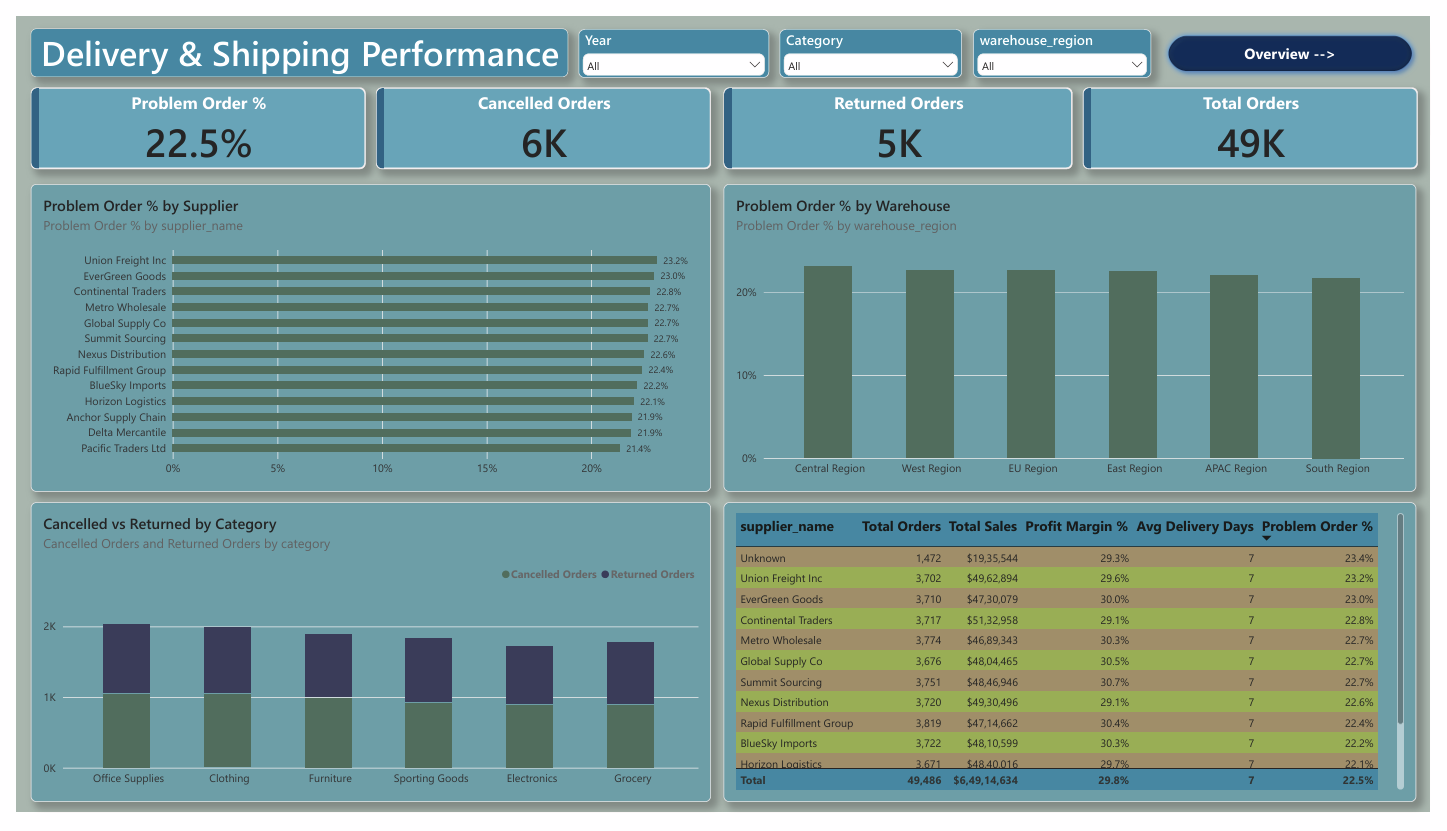

What the dashboard file says about the page in this screenshot:
{"tool":"powerbi","page":{"name":"Suppliers","canvas":[1920,1080],"ordinal":3},"visuals":[{"type":"textbox","title":"Delivery & Shipping Performance","box":[18.5,16.5,730.7,65.9],"z":0},{"type":"slicer","fields":{"Values":["DateTable.Year"]},"box":[763,16.5,258.6,66],"z":1000},{"type":"slicer","fields":{"Values":["supply_chain_analysis_dashboard.category"]},"box":[1036.4,16.5,247.6,66],"z":2000},{"type":"slicer","fields":{"Values":["supply_chain_analysis_dashboard.warehouse_region"]},"box":[1298.6,16.5,242.1,66],"z":3000},{"type":"actionButton","box":[1555.4,16.5,348.5,66],"z":4000},{"type":"cardVisual","fields":{"Data":["supply_chain_analysis_dashboard.Problem Order %"]},"box":[18.8,96,455,110.6],"z":5000},{"type":"cardVisual","fields":{"Data":["supply_chain_analysis_dashboard.Cancelled Orders"]},"box":[488.3,96,455,110.6],"z":6000},{"type":"cardVisual","fields":{"Data":["supply_chain_analysis_dashboard.Returned Orders"]},"box":[960,96,473.7,110.6],"z":7000},{"type":"cardVisual","fields":{"Data":["supply_chain_analysis_dashboard.Total Orders"]},"box":[1448.3,96,455,110.6],"z":8000},{"type":"clusteredBarChart","title":"Problem Order % by Supplier","fields":{"Category":["supply_chain_analysis_dashboard.supplier_name"],"Y":["supply_chain_analysis_dashboard.Problem Order %"]},"box":[18.8,227.5,924.5,417.4],"z":9000},{"type":"clusteredColumnChart","title":"Problem Order % by Warehouse","fields":{"Category":["supply_chain_analysis_dashboard.warehouse_region"],"Y":["supply_chain_analysis_dashboard.Problem Order %"]},"box":[960,227.5,941.2,417.4],"z":10000},{"type":"columnChart","title":"Cancelled vs Returned by Category","fields":{"Category":["supply_chain_analysis_dashboard.category"],"Y":["supply_chain_analysis_dashboard.Cancelled Orders","supply_chain_analysis_dashboard.Returned Orders"]},"box":[18.8,659.5,924.5,407],"z":11000},{"type":"tableEx","fields":{"Values":["supply_chain_analysis_dashboard.supplier_name","supply_chain_analysis_dashboard.Total Orders","supply_chain_analysis_dashboard.Total Sales","supply_chain_analysis_dashboard.Profit Margin %","supply_chain_analysis_dashboard.Avg Delivery Days","supply_chain_analysis_dashboard.Problem Order %"]},"box":[960,659.5,941.2,407],"z":12000}]}

Visuals, with their boxes in screenshot pixels (x1, y1, x2, y2), scaled from the page's 1920x1080 canvas onto the 1447x831 screenshot:
"Delivery & Shipping Performance" textbox: (14,13,565,63)
slicer - DateTable.Year: (575,13,770,63)
slicer - supply_chain_analysis_dashboard.category: (781,13,968,63)
slicer - supply_chain_analysis_dashboard.warehouse_region: (979,13,1161,63)
actionButton: (1172,13,1435,63)
cardVisual - supply_chain_analysis_dashboard.Problem Order %: (14,74,357,159)
cardVisual - supply_chain_analysis_dashboard.Cancelled Orders: (368,74,711,159)
cardVisual - supply_chain_analysis_dashboard.Returned Orders: (724,74,1081,159)
cardVisual - supply_chain_analysis_dashboard.Total Orders: (1092,74,1434,159)
"Problem Order % by Supplier" clusteredBarChart: (14,175,711,496)
"Problem Order % by Warehouse" clusteredColumnChart: (724,175,1433,496)
"Cancelled vs Returned by Category" columnChart: (14,507,711,821)
tableEx - supply_chain_analysis_dashboard.supplier_name x supply_chain_analysis_dashboard.Total Orders: (724,507,1433,821)
